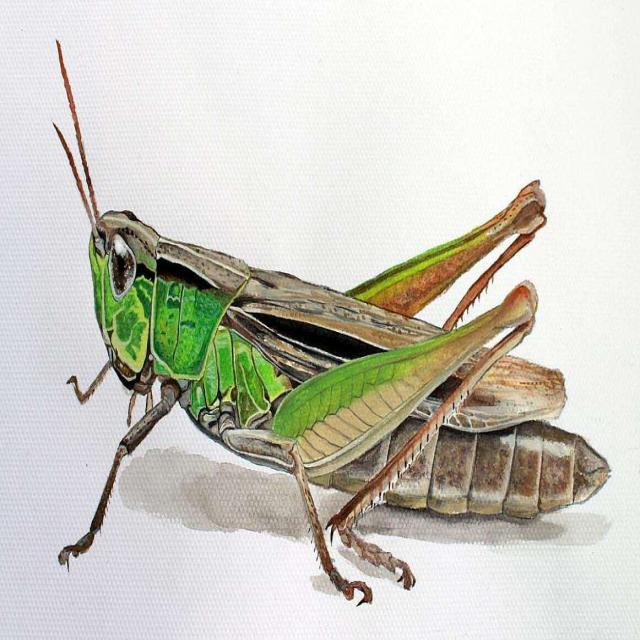ZhaMeng: (54, 141, 627, 595)
